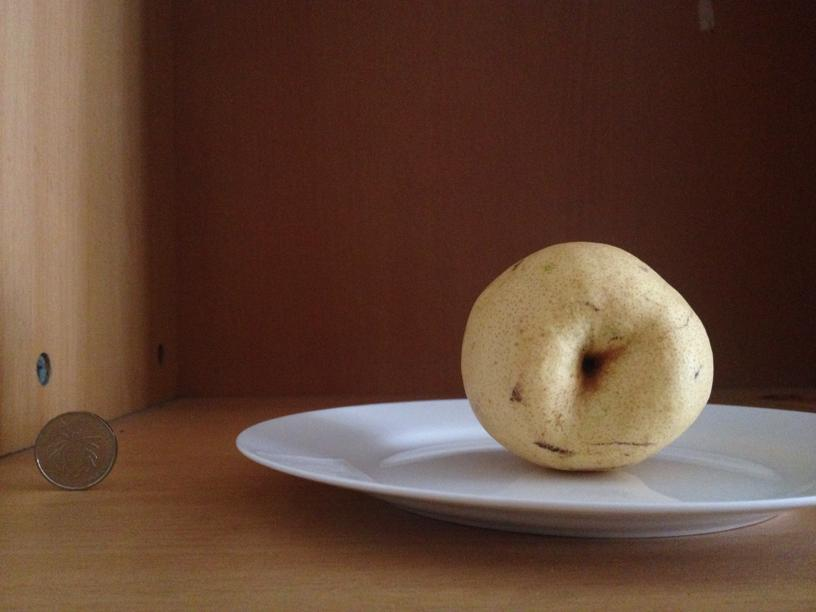coin: (32, 413, 118, 487)
pear: (460, 237, 713, 469)
